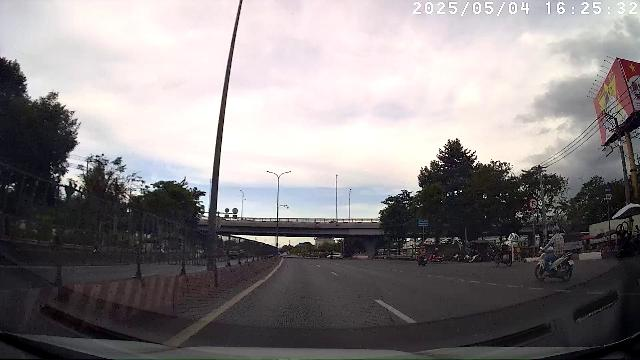123b-cam-re-phai: (528, 196, 538, 210)
